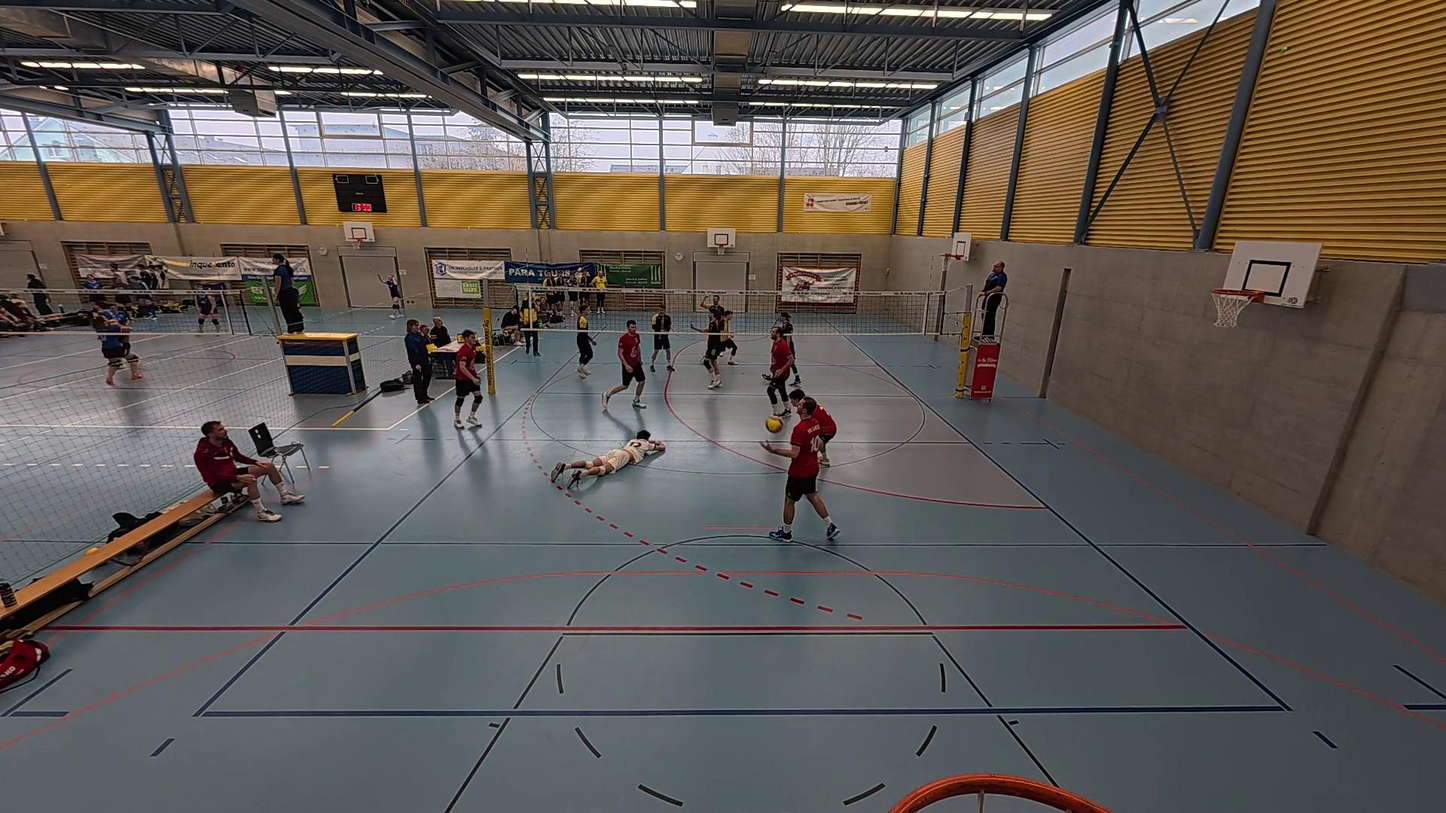Player: (763, 414, 841, 544), (548, 433, 667, 489), (786, 385, 837, 470), (602, 321, 648, 410), (450, 330, 485, 428), (764, 323, 795, 413), (700, 313, 727, 390), (648, 303, 676, 374), (776, 311, 801, 382), (700, 293, 726, 357), (575, 309, 596, 379), (716, 305, 740, 366)
ball: (765, 416, 784, 431)
